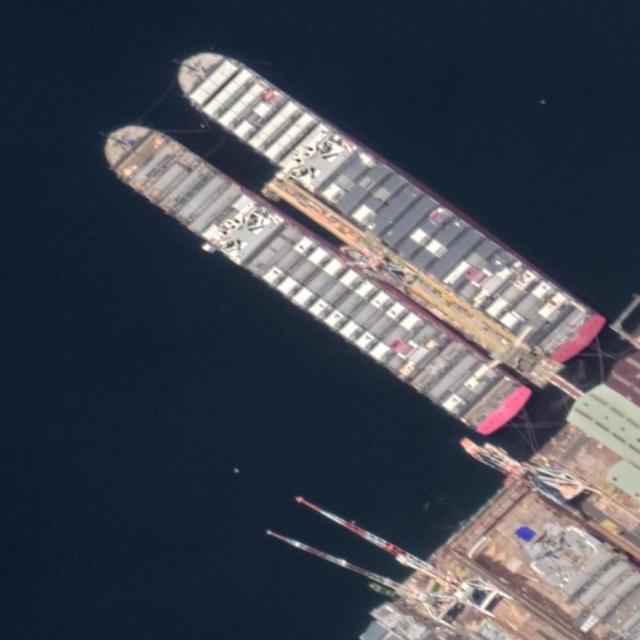Cargo: (162, 30, 612, 377), (90, 104, 539, 449)
Dock: (259, 165, 588, 418)
